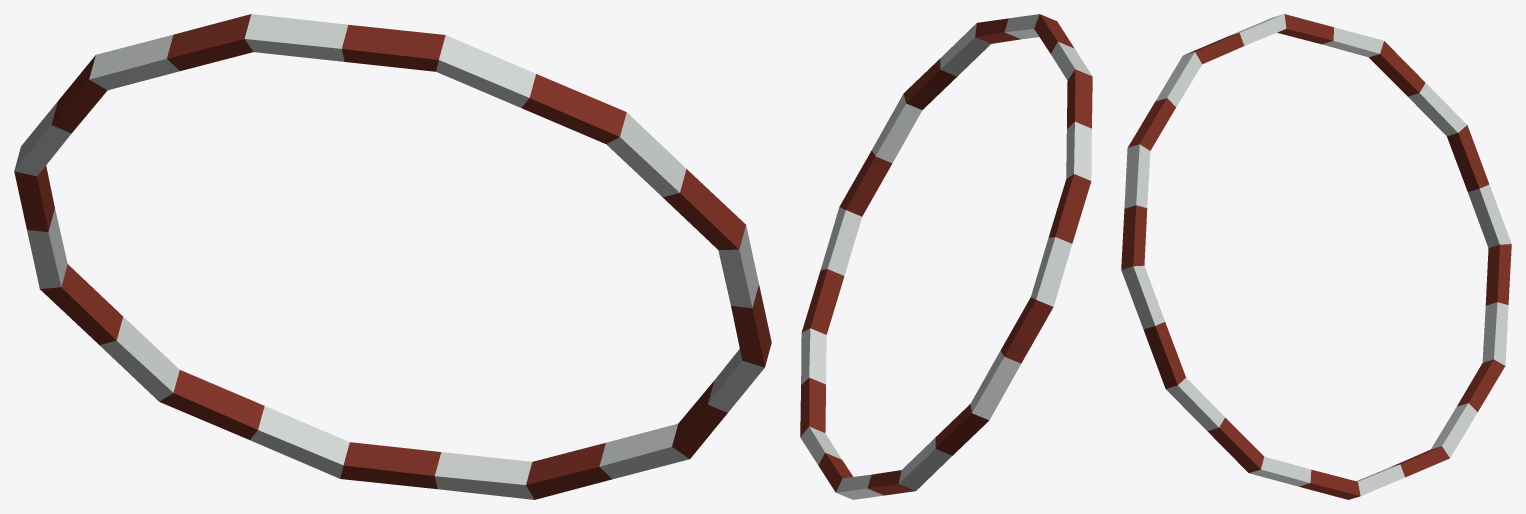
Rendered from ring 3.fbx.
The picture shows the model from 3 angles, left to right: view 1: azimuth 30°, elevation 25°; view 2: azimuth 150°, elevation 25°; view 3: azimuth 270°, elevation 25°; orthographic projection. The views are drawn at different scales.
Visible parts, largest first — view 1: SM_Prop_Plane_Ring_01; view 2: SM_Prop_Plane_Ring_01; view 3: SM_Prop_Plane_Ring_01.
Boxes of the visible parts, left/top/right/bottom form: SM_Prop_Plane_Ring_01: left=14, top=14, right=771, bottom=499; SM_Prop_Plane_Ring_01: left=800, top=14, right=1092, bottom=499; SM_Prop_Plane_Ring_01: left=1121, top=14, right=1511, bottom=499.
Size of the model in its own units: 1393 by 1496 by 1381.
Materials: 1 (1 with a texture image).
